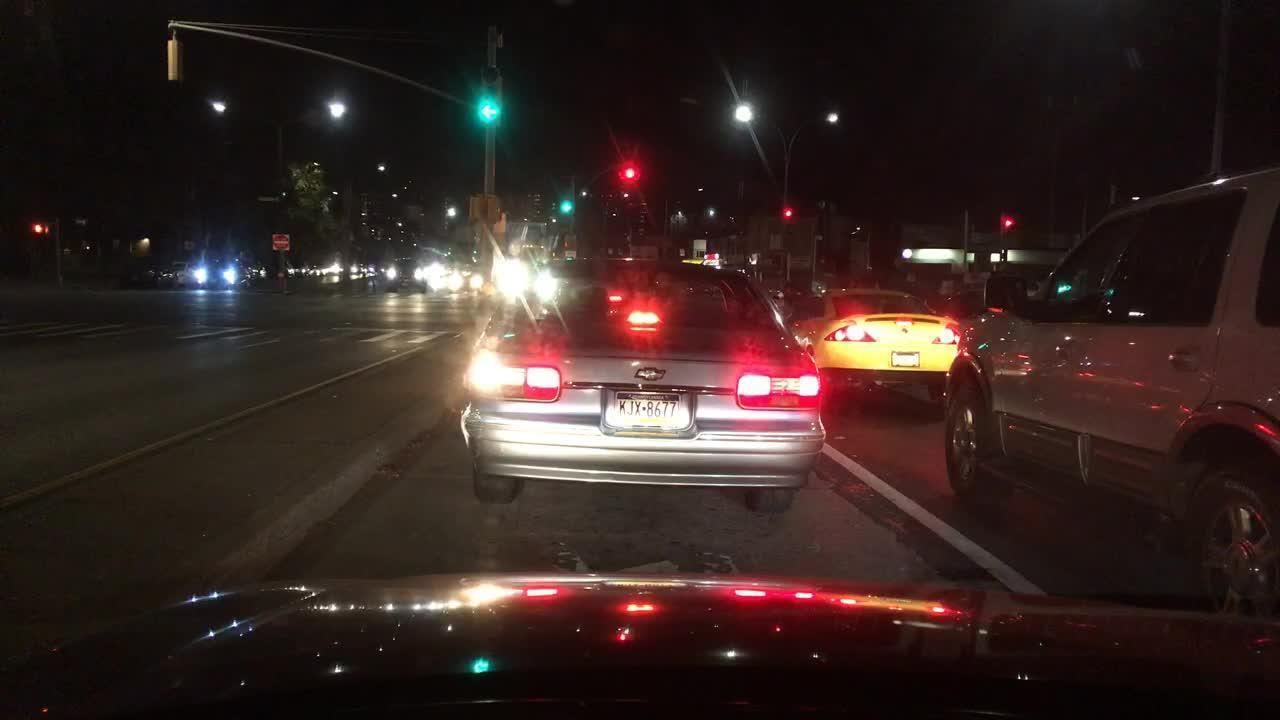chevrolet: (630, 362, 672, 386)
